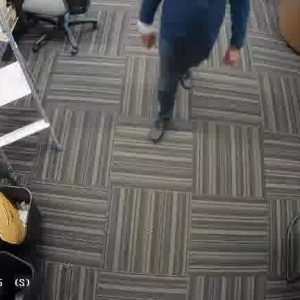person: (144, 0, 248, 144)
